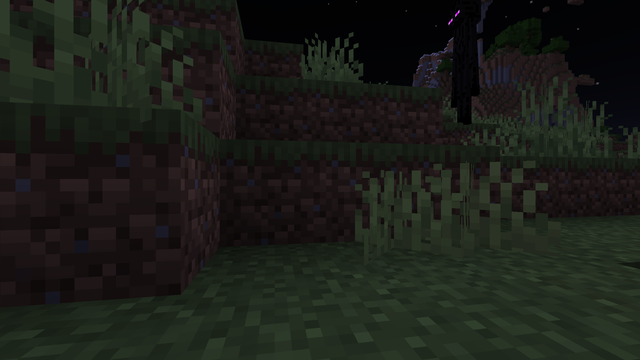endermens: (444, 0, 484, 123)
